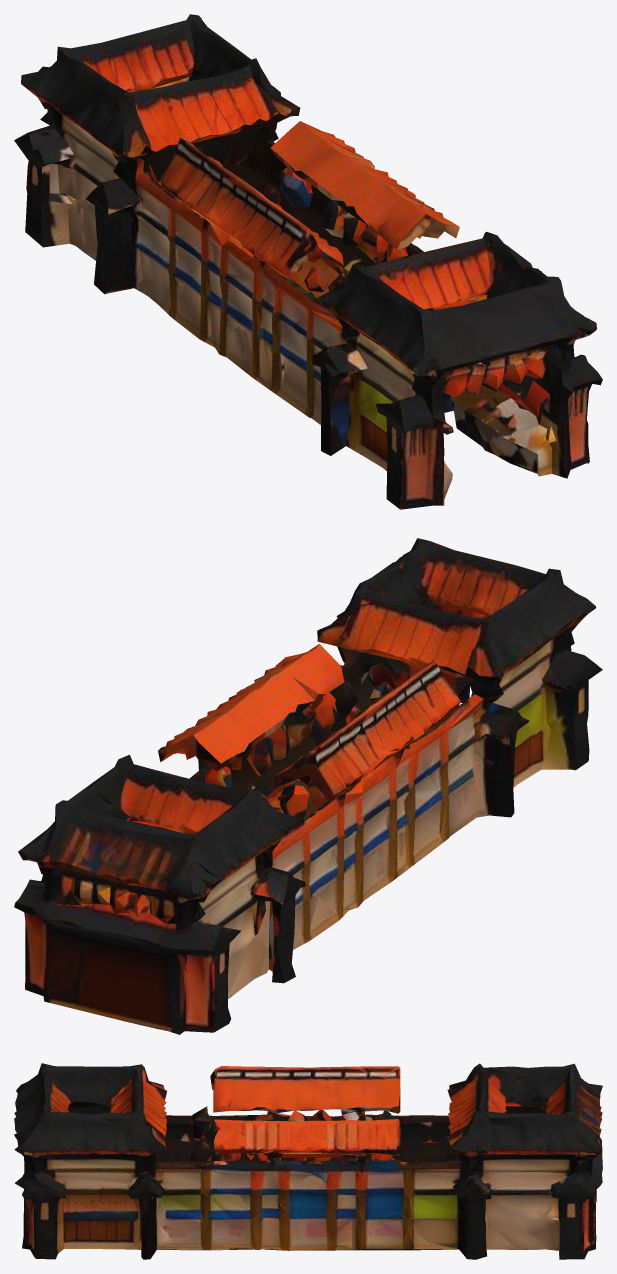
The model's file is kuromon-market.glb.
3 views of the same model, one above another, from view 1: azimuth 30°, elevation 25°; view 2: azimuth 150°, elevation 25°; view 3: azimuth 270°, elevation 25° (orthographic). The views are drawn at different scales.
Visible parts, largest first — view 1: logan-textured.obj; view 2: logan-textured.obj; view 3: logan-textured.obj.
Part boxes in pixels (x1,y1,x2,y2): logan-textured.obj: (14, 14, 602, 509); logan-textured.obj: (14, 538, 602, 1034); logan-textured.obj: (14, 1063, 602, 1259).
Size of the model in its own units: 0.2857 by 0.2605 by 1.
1 material, 1 textured.
